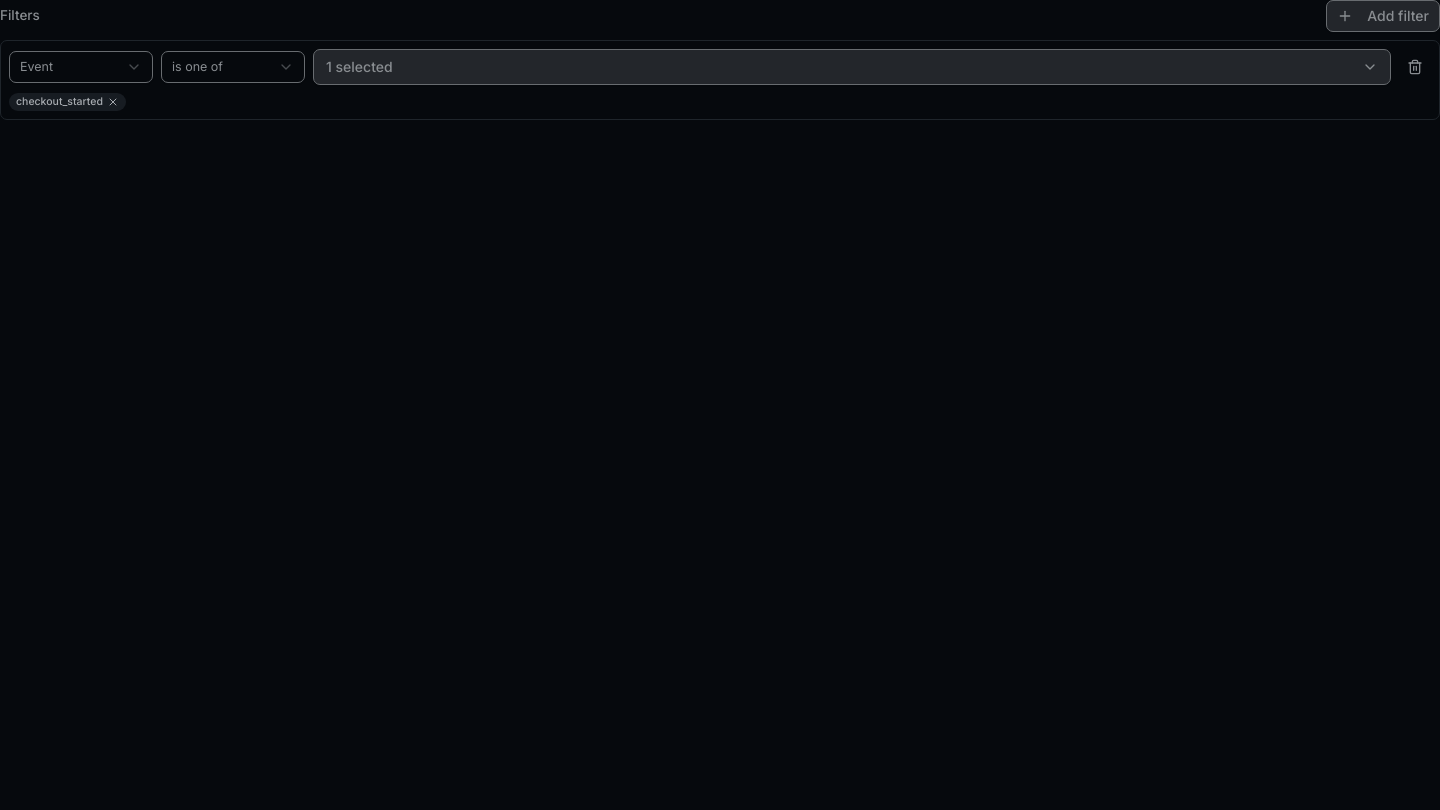
Test: FilterEditor — event scope picker (tripl-jfm3.106) › queries a capped page when the picker opens, and says how much is hidden
Check: the text "checkout_started" is shown, box [16,95,103,109]
Click the button "1 selected" at (359, 66), box [313,49,1391,85]
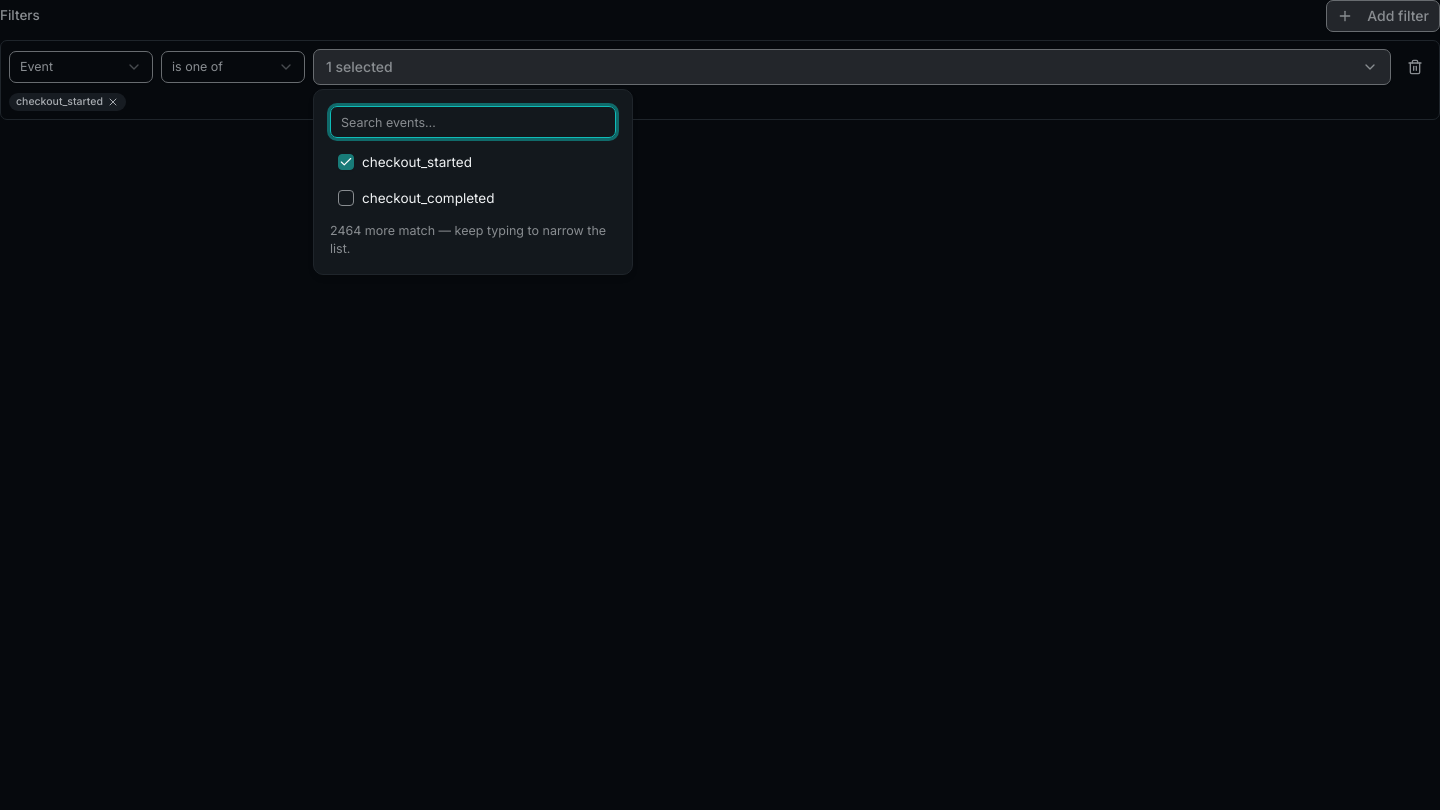
Check: the text "2464 more match — keep typing to narrow the list." is shown, box [330,222,616,258]
